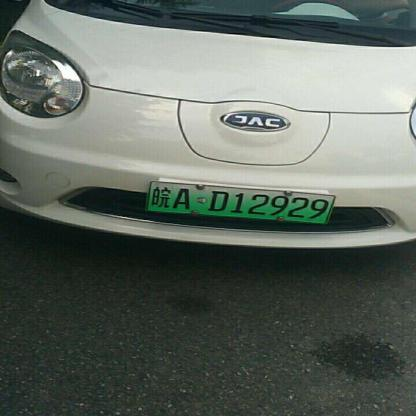lp: (145, 180, 336, 225)
